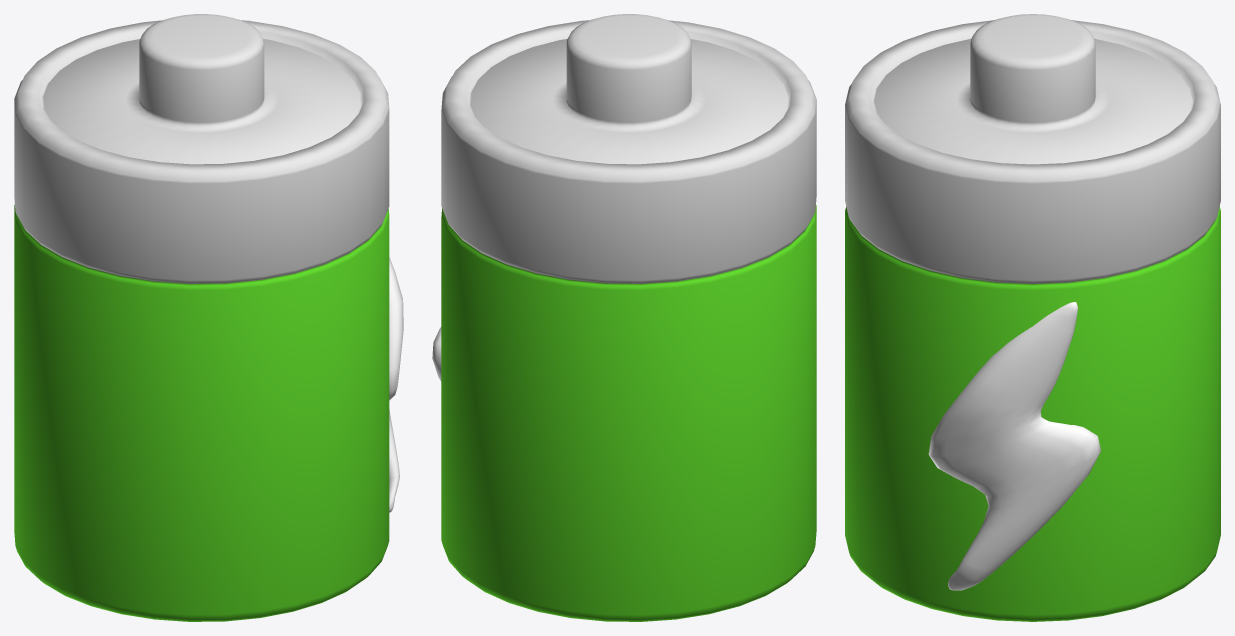
The model's file is battery.fbx.
3 views of the same model, side by side, from view 1: azimuth 30°, elevation 25°; view 2: azimuth 150°, elevation 25°; view 3: azimuth 270°, elevation 25° (orthographic).
Parts seen in each view (by area): view 1: Battery; view 2: Battery; view 3: Battery.
Boxes of the visible parts, box(x1,y1,x2,y2) form: Battery: box(14, 14, 403, 621); Battery: box(432, 14, 816, 621); Battery: box(845, 14, 1220, 621).
Bounding box in the file's own units: 275 × 396 × 265.
